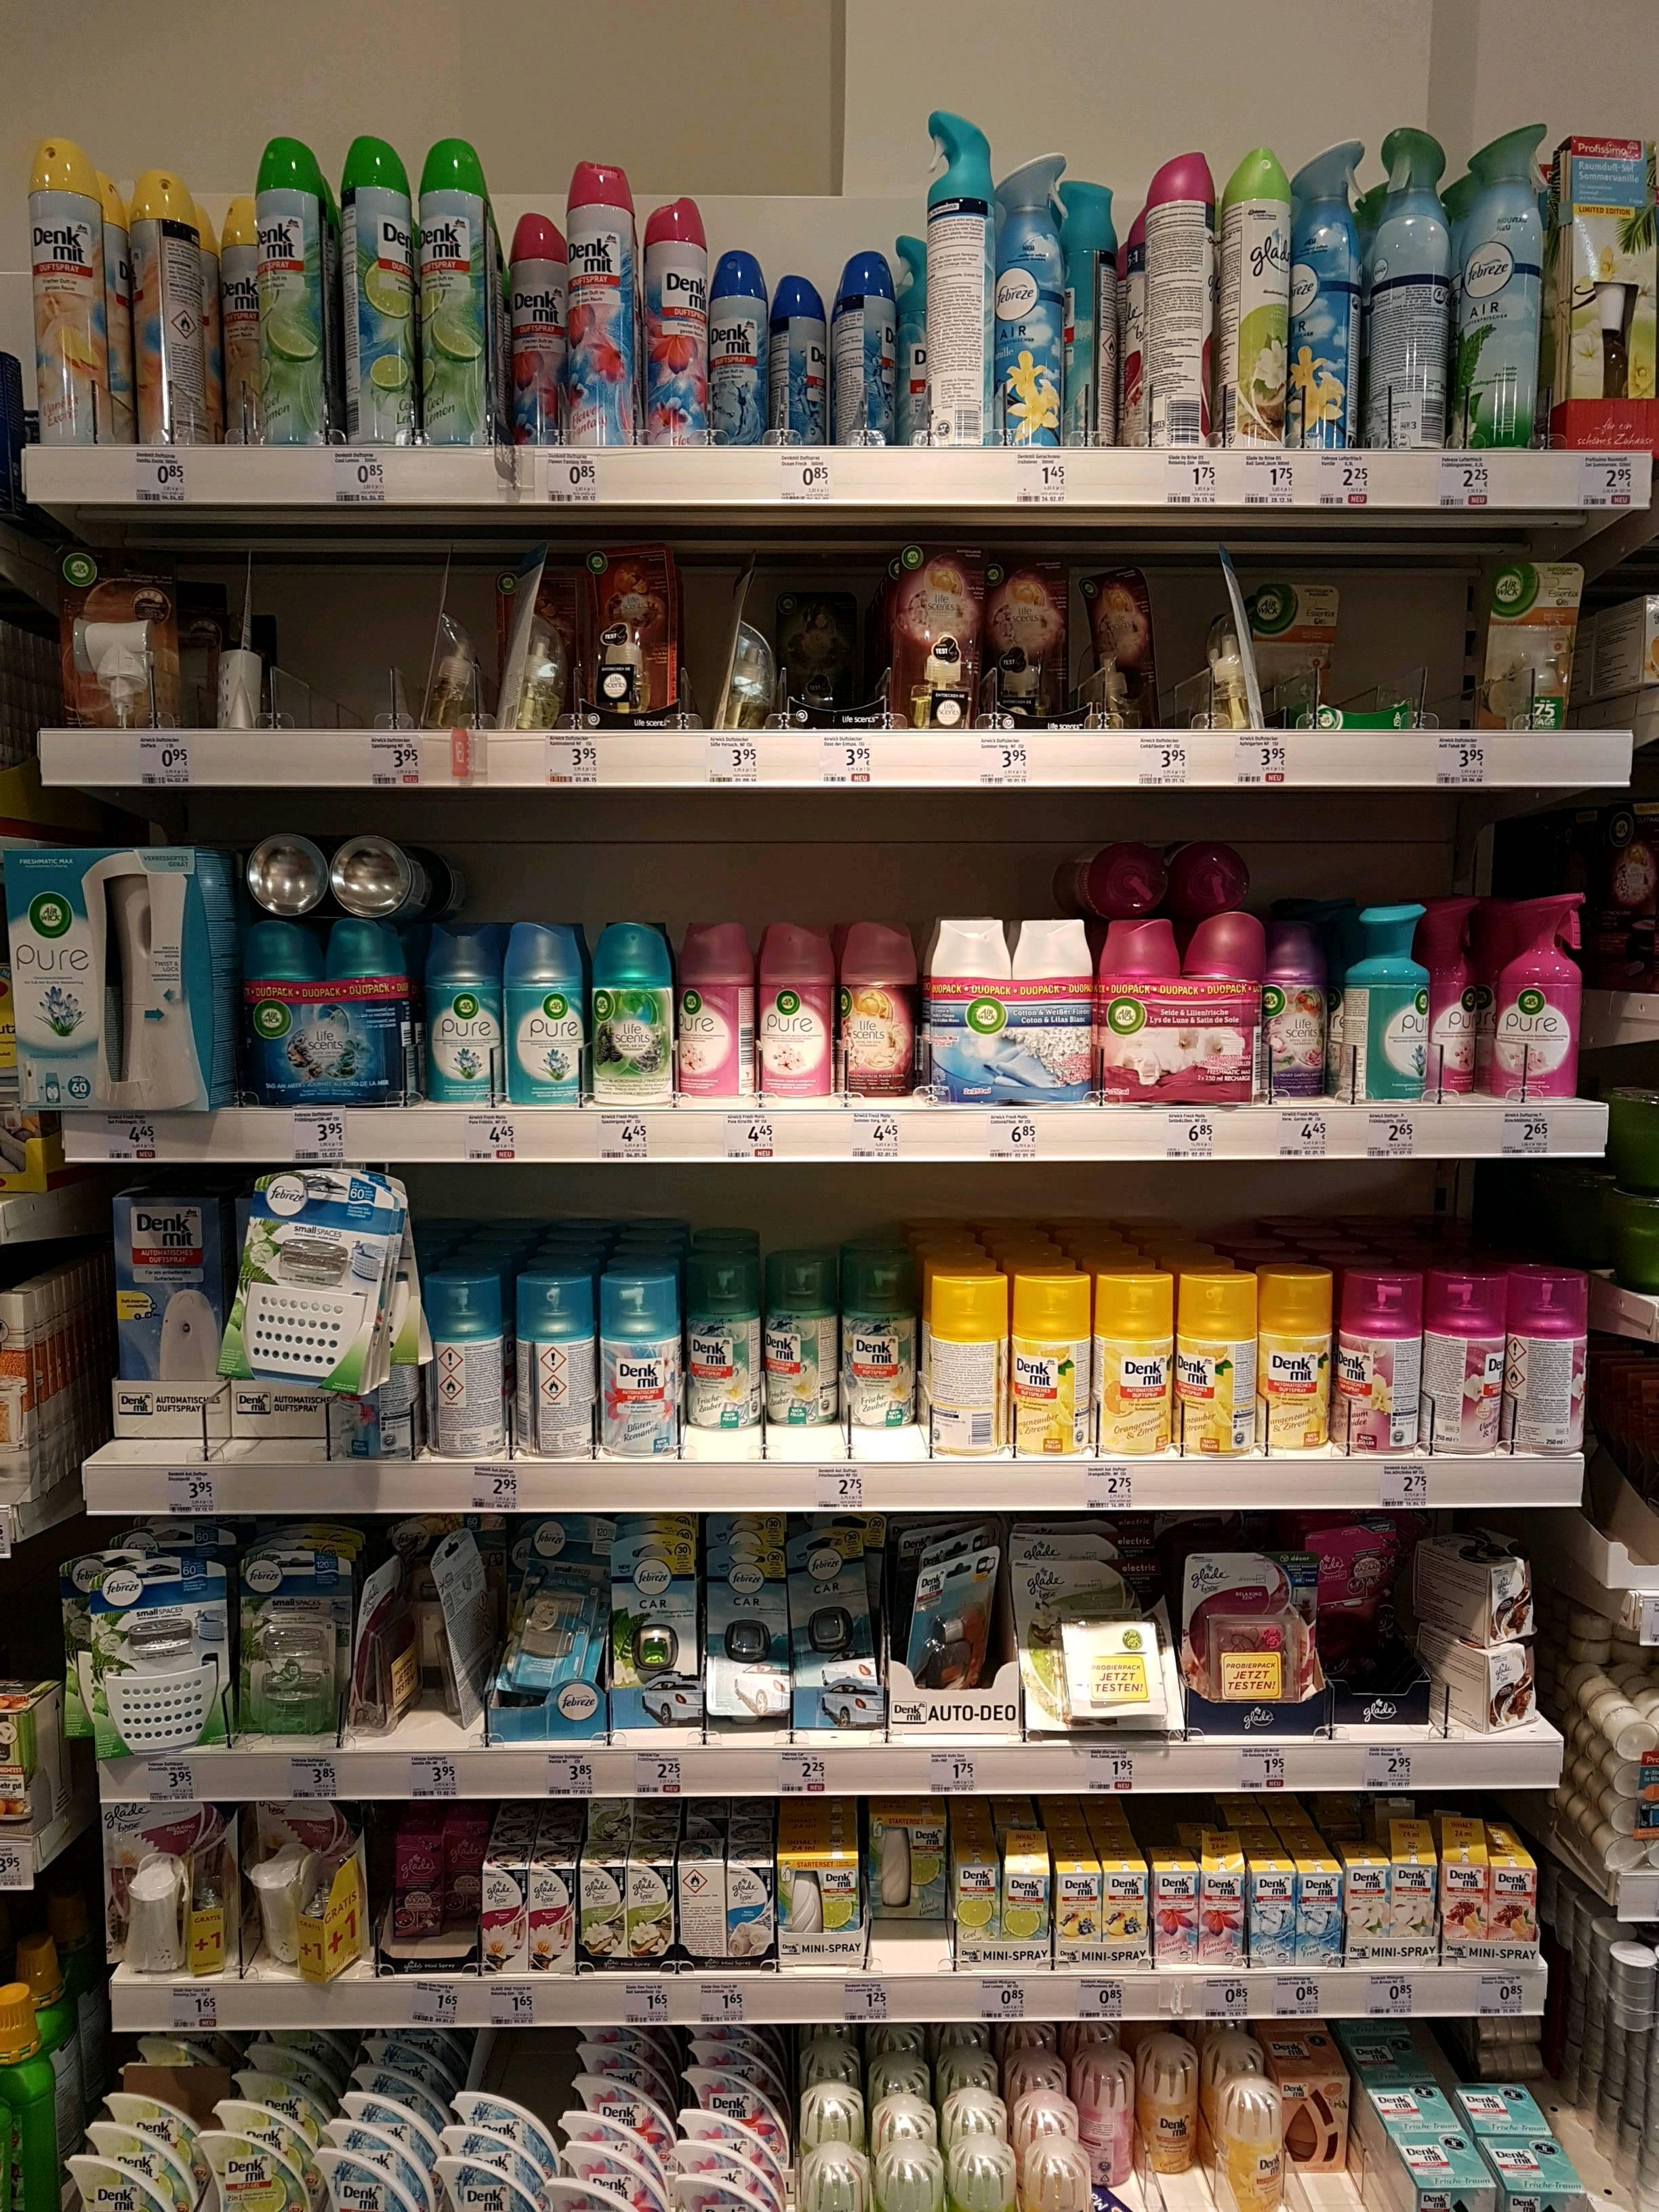empty: (282, 563, 375, 723)
misalignment: (512, 108, 992, 449), (1324, 1526, 1544, 1740), (354, 1536, 497, 1730), (246, 1806, 368, 1982), (1199, 564, 1270, 754)
